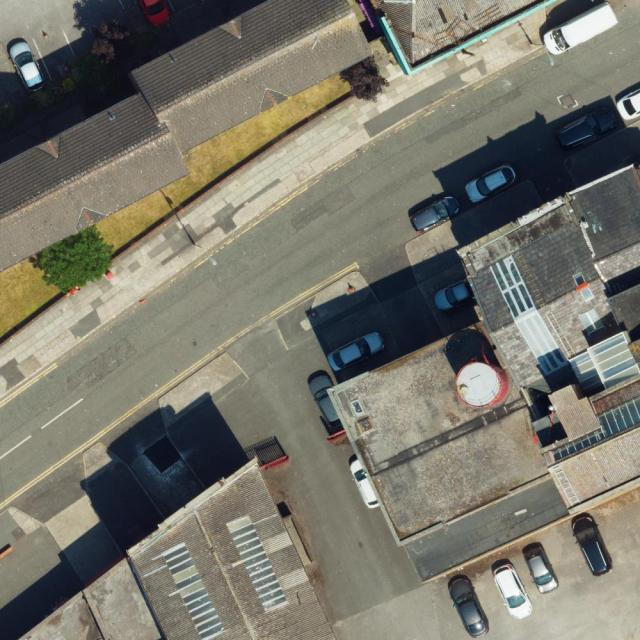roof: (327, 161, 640, 587), (0, 0, 375, 275), (15, 456, 339, 640), (370, 0, 559, 76)
skylight: (489, 253, 569, 378), (159, 541, 227, 640), (225, 516, 289, 615), (551, 396, 640, 462), (568, 331, 640, 394), (579, 307, 604, 334), (573, 273, 596, 302), (351, 398, 365, 416)
